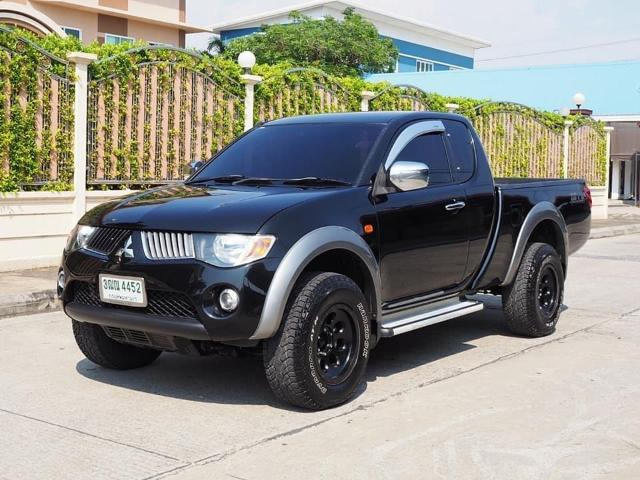pickup-truck: (51, 87, 619, 416)
